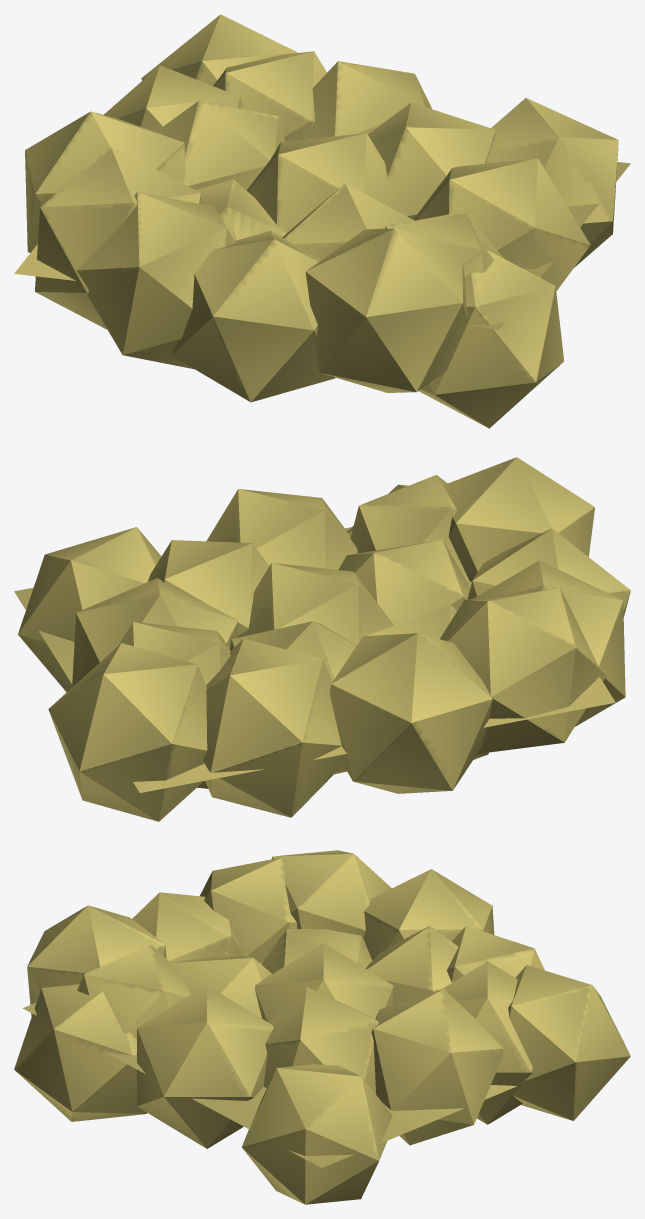
Rendered from sanddecke.fbx.
3 views of the same model, one above another, from view 1: azimuth 30°, elevation 25°; view 2: azimuth 150°, elevation 25°; view 3: azimuth 270°, elevation 25° (orthographic). The views are drawn at different scales.
Visible parts, largest first — view 1: Platonischer_Körper; view 2: Platonischer_Körper; view 3: Platonischer_Körper.
Part boxes in pixels (x1=…): Platonischer_Körper: x1=14, y1=14, x2=630, y2=428; Platonischer_Körper: x1=14, y1=457, x2=630, y2=821; Platonischer_Körper: x1=14, y1=850, x2=630, y2=1204.
Size of the model in its own units: 695 by 231 by 712.
